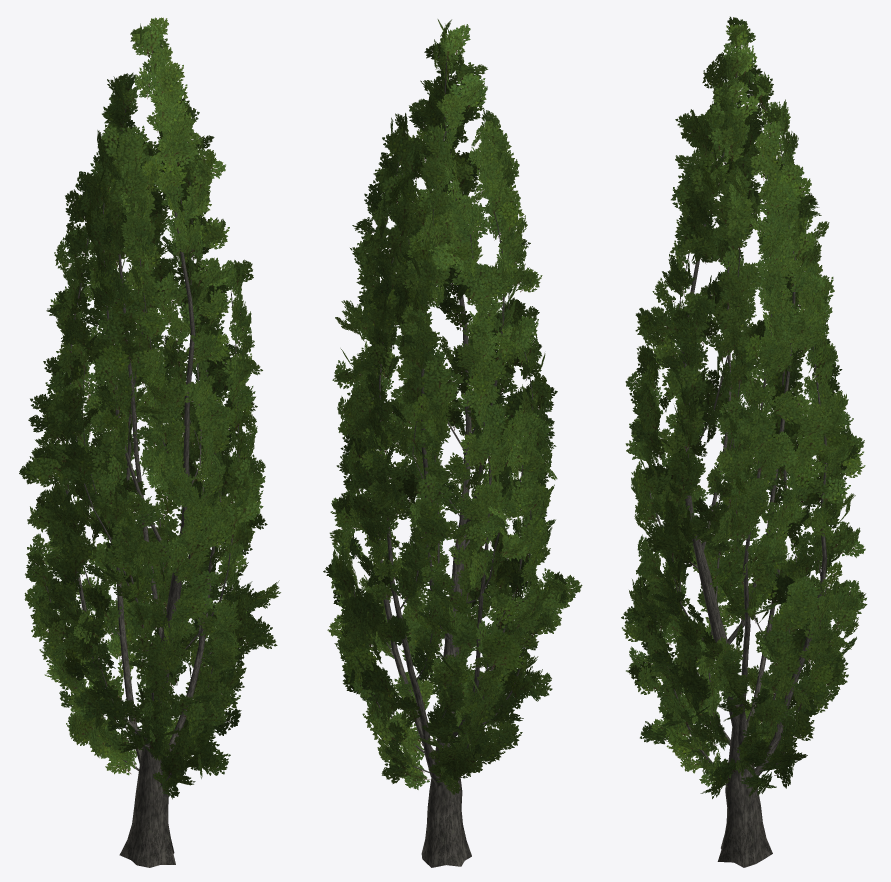
The model's file is arbre_peuplier_lod0.glb.
The picture shows the model from 3 angles, left to right: view 1: azimuth 30°, elevation 25°; view 2: azimuth 150°, elevation 25°; view 3: azimuth 270°, elevation 25°; orthographic projection.
Visible parts, largest first — view 1: arbre_peuplier_lod0; view 2: arbre_peuplier_lod0; view 3: arbre_peuplier_lod0.
Boxes of the visible parts, x1,y1,x2,y2 form: arbre_peuplier_lod0: (19, 17, 280, 867); arbre_peuplier_lod0: (323, 19, 582, 867); arbre_peuplier_lod0: (621, 16, 867, 867).
Bounding box in the file's own units: 4.64 × 15.48 × 4.38.
2 materials, 2 textured.
